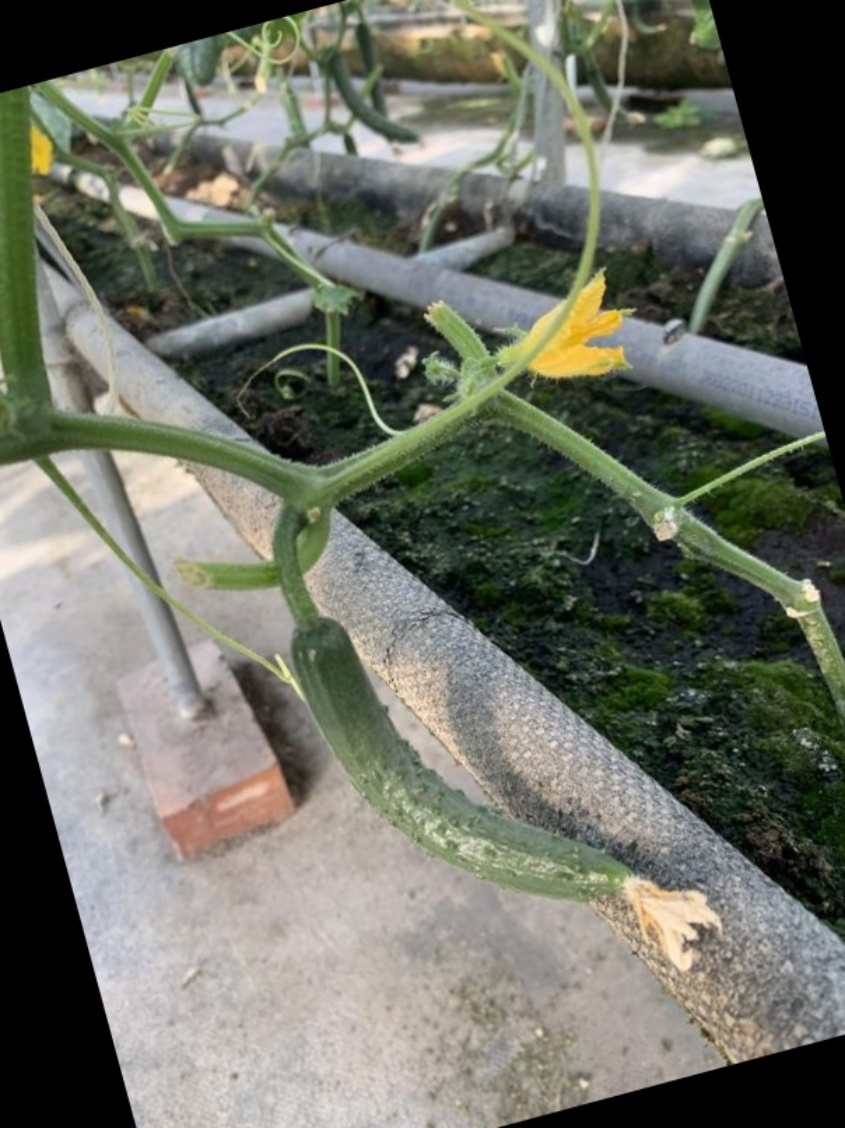growth: (278, 604, 711, 919)
